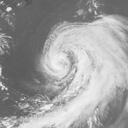cyclone: (40, 21, 109, 93)
